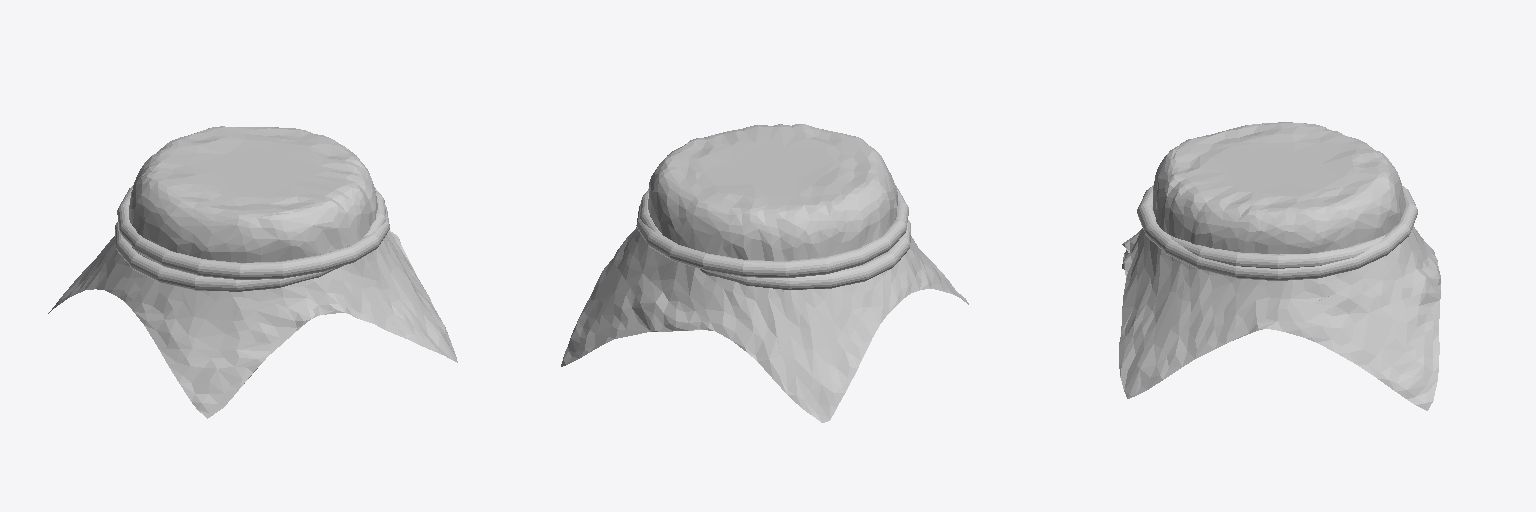
Rendered from Pot5Lid.obj.
The picture shows the model from 3 angles: view 1: azimuth 30°, elevation 25°; view 2: azimuth 150°, elevation 25°; view 3: azimuth 270°, elevation 25°; orthographic projection.
Visible parts, largest first — view 1: Pot5Lid; view 2: Pot5Lid; view 3: Pot5Lid.
Boxes of the visible parts, x1=… form: Pot5Lid: x1=48, y1=126, x2=457, y2=418; Pot5Lid: x1=561, y1=124, x2=968, y2=422; Pot5Lid: x1=1119, y1=122, x2=1440, y2=410.
Bounding box in the file's own units: 1.31 × 0.8128 × 1.32.